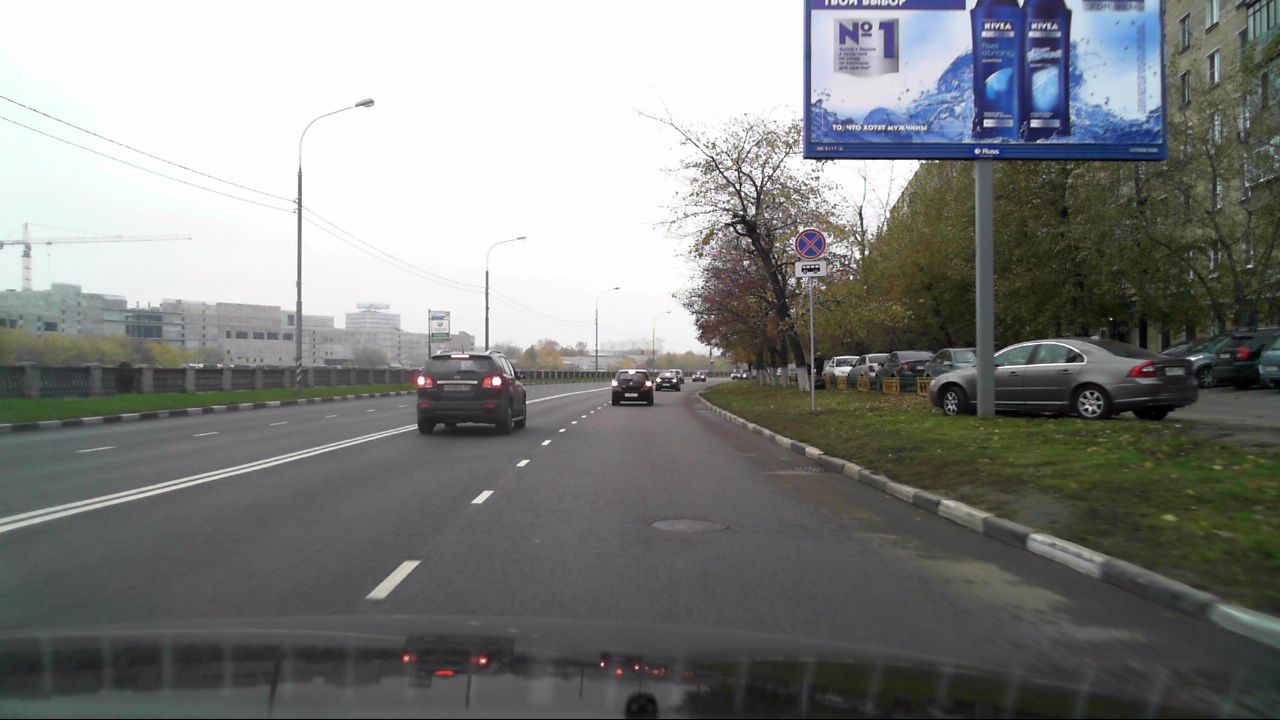No Parking: (794, 228, 825, 258)
